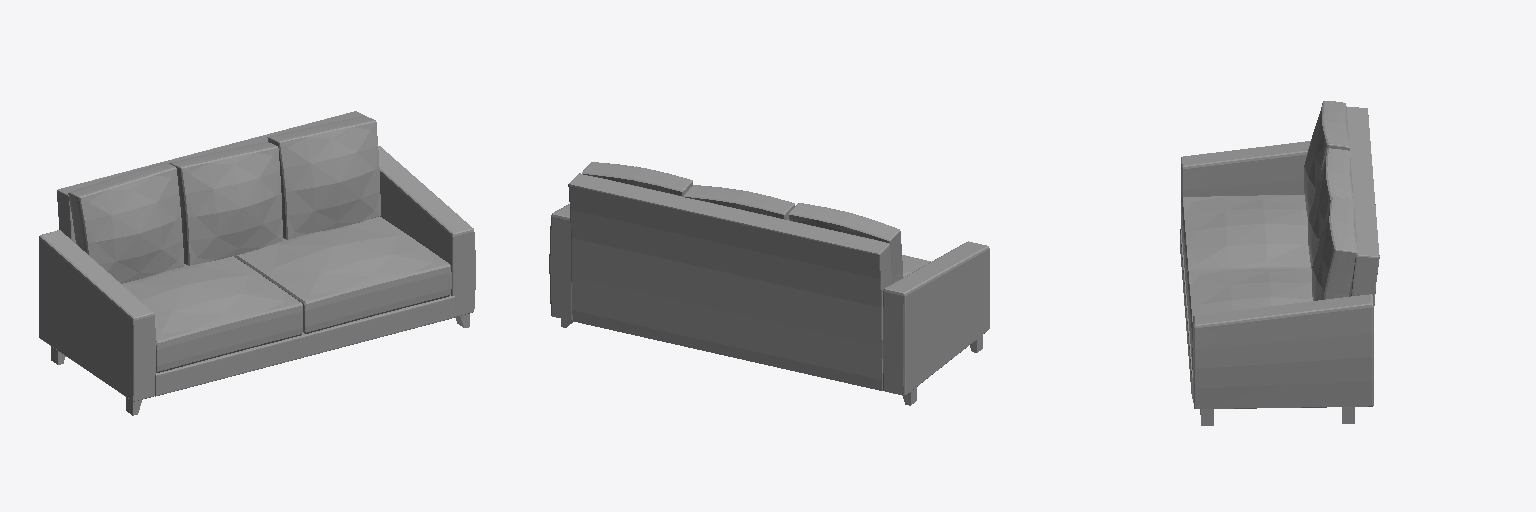
The model's file is DirtyCouch.obj.
The picture shows the model from 3 angles: view 1: azimuth 30°, elevation 25°; view 2: azimuth 150°, elevation 25°; view 3: azimuth 270°, elevation 25°; orthographic projection.
Visible parts, largest first — view 1: Couch_Cube.001; view 2: Couch_Cube.001; view 3: Couch_Cube.001.
Part boxes in pixels (left/top/right/bottom): Couch_Cube.001: left=39, top=111, right=475, bottom=415; Couch_Cube.001: left=549, top=162, right=989, bottom=405; Couch_Cube.001: left=1180, top=101, right=1379, bottom=425.
Bounding box in the file's own units: 2.57 × 1.17 × 1.25.